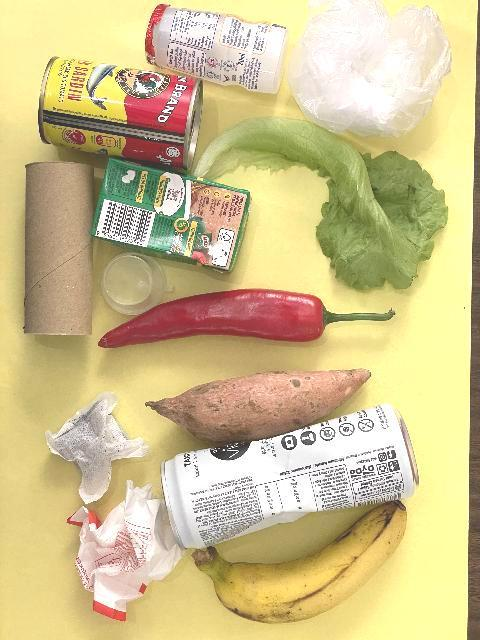banana: (190, 499, 408, 625)
chilli: (96, 287, 396, 349)
drinkcan: (160, 402, 420, 550)
drinkpack: (89, 157, 253, 276)
foodcan: (38, 56, 204, 172)
lettuce: (189, 115, 449, 292)
paperbag: (66, 479, 186, 623)
plasticbottle: (144, 4, 290, 94)
plasticcontainer: (100, 252, 174, 316)
sweetpotato: (144, 367, 372, 443)
teabag: (44, 390, 150, 506)
tissueroll: (23, 160, 94, 336)
